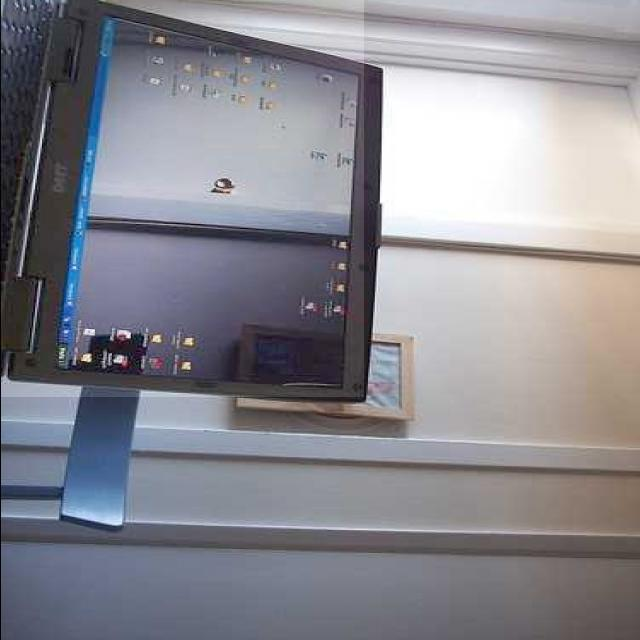-keyboard-: (0, 0, 364, 397)
